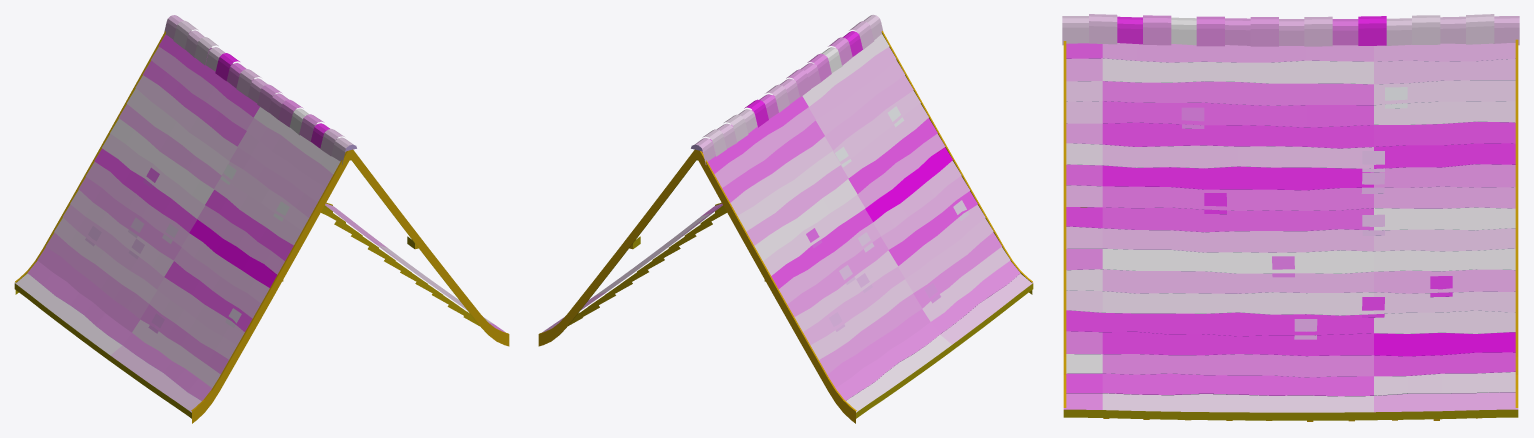
Rendered from roof_p_6x6.glb.
3 views of the same model, side by side, from view 1: azimuth 30°, elevation 25°; view 2: azimuth 150°, elevation 25°; view 3: azimuth 270°, elevation 25° (orthographic). The views are drawn at different scales.
Visible parts, largest first — view 1: roof_p_6x6; view 2: roof_p_6x6; view 3: roof_p_6x6.
Part boxes in pixels (bbox=[...]): roof_p_6x6: bbox=[14, 15, 509, 423]; roof_p_6x6: bbox=[538, 14, 1033, 423]; roof_p_6x6: bbox=[1062, 14, 1519, 421].
Bounding box in the file's own units: 6.94 × 5.03 × 6.74.
